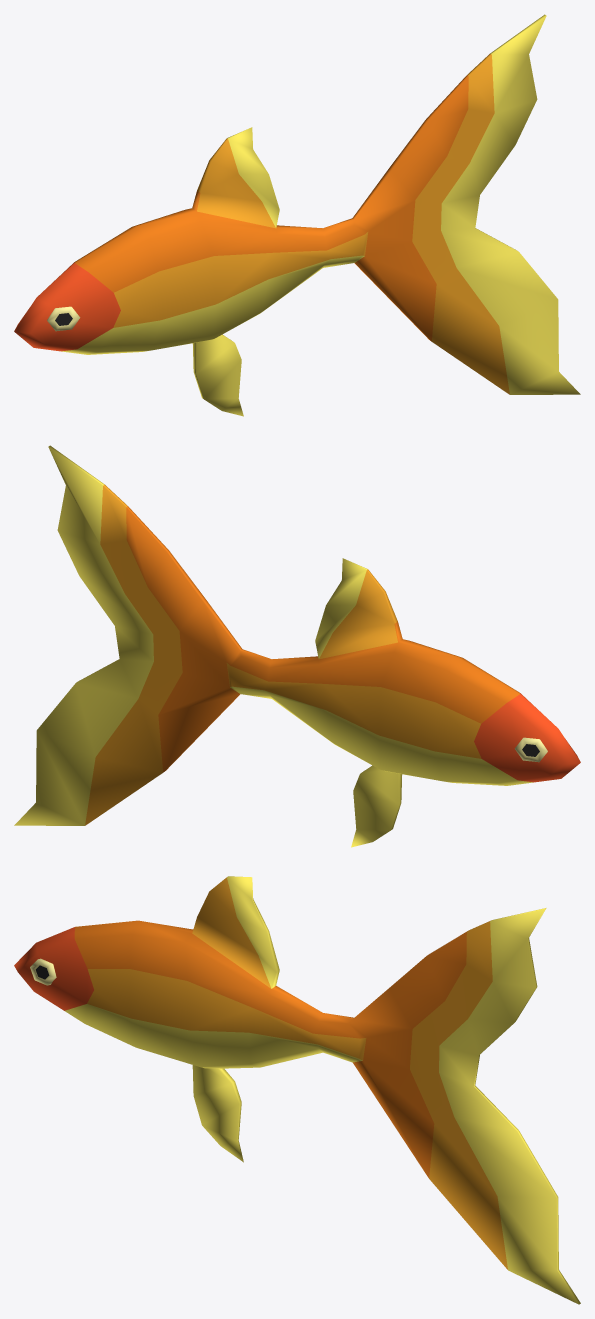
Rendered from Fish_003.glb.
3 renders of one model, top to bottom at view 1: azimuth 30°, elevation 25°; view 2: azimuth 150°, elevation 25°; view 3: azimuth 330°, elevation 25°, orthographic.
Parts seen in each view (by area): view 1: Fish_003; view 2: Fish_003; view 3: Fish_003.
Boxes of the visible parts, <box> form: Fish_003: <box>14,14,580,416</box>; Fish_003: <box>14,445,580,847</box>; Fish_003: <box>14,876,580,1304</box>.
Size of the model in its own units: 0.5942 by 0.3884 by 0.0536.
Materials: 1 (1 with a texture image).
